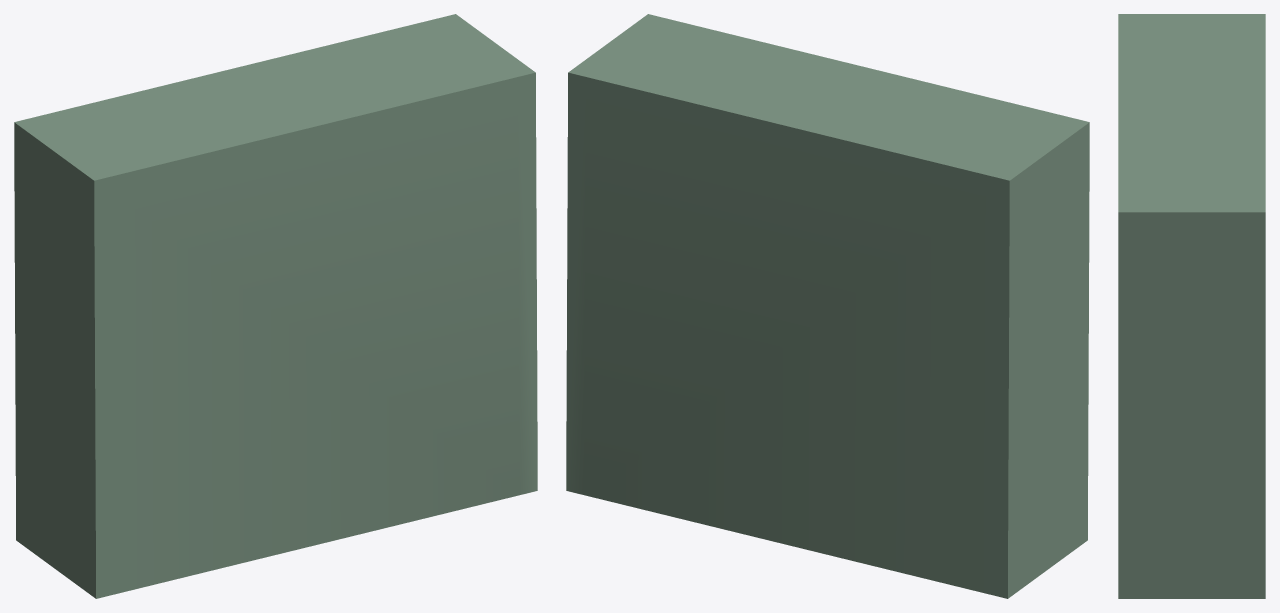
The model's file is MSH_QuestObject_cabinet_09.fbx.
3 views of the same model, side by side, from view 1: azimuth 30°, elevation 25°; view 2: azimuth 150°, elevation 25°; view 3: azimuth 270°, elevation 25° (orthographic). The views are drawn at different scales.
Parts seen in each view (by area): view 1: MSH_QuestObject_cabinet_09; view 2: MSH_QuestObject_cabinet_09; view 3: MSH_QuestObject_cabinet_09.
Boxes of the visible parts, x1,y1,x2,y2 form: MSH_QuestObject_cabinet_09: [14, 14, 537, 598]; MSH_QuestObject_cabinet_09: [566, 14, 1089, 598]; MSH_QuestObject_cabinet_09: [1118, 14, 1265, 598].
Size of the model in its own units: 3.1 by 2.8 by 0.968.
